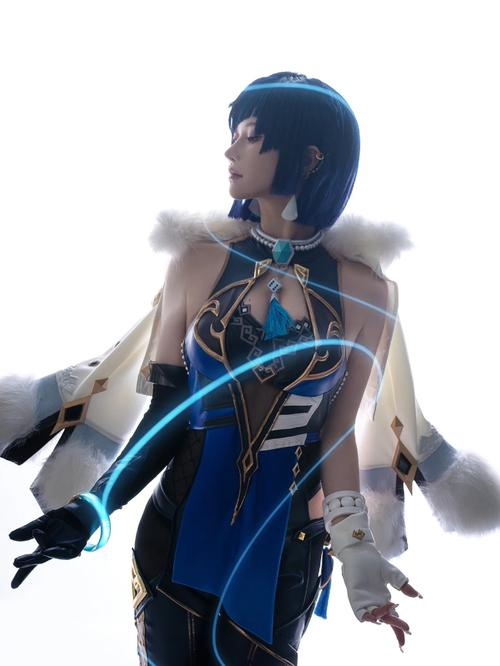夜兰: (9, 59, 421, 661)
